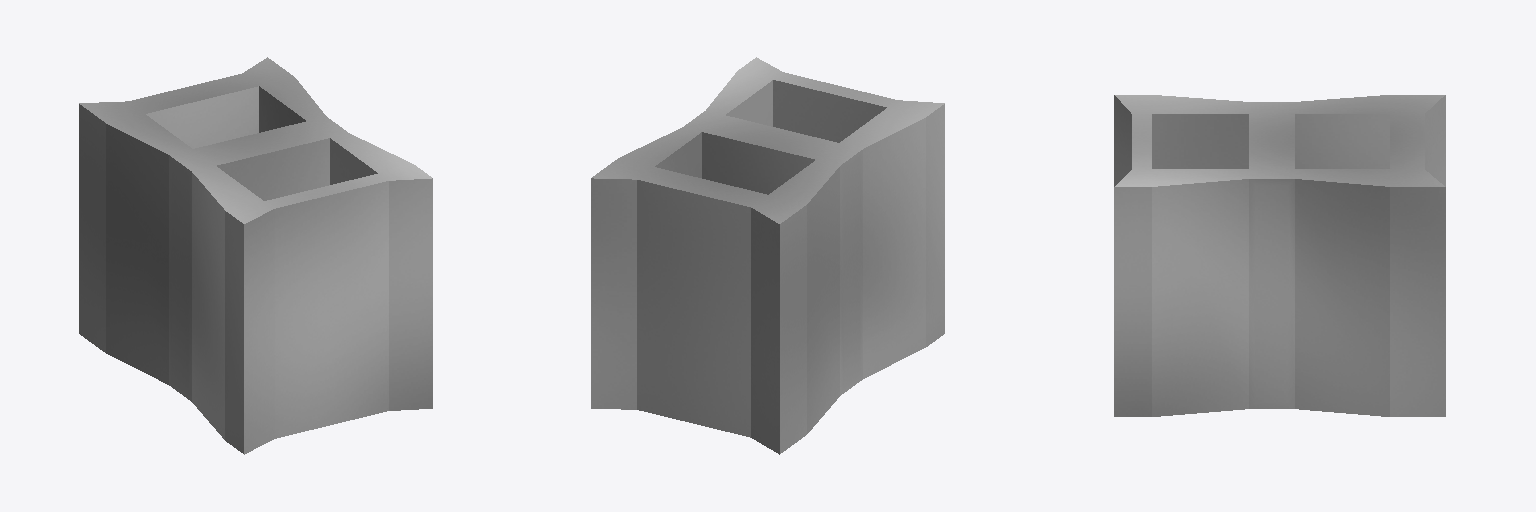
3 renders of one model, left to right at view 1: azimuth 30°, elevation 25°; view 2: azimuth 150°, elevation 25°; view 3: azimuth 270°, elevation 25°, orthographic.
Parts seen in each view (by area): view 1: brick; view 2: brick; view 3: brick.
Boxes of the visible parts, box(x1,y1,x2,y2) form: brick: box(79, 57, 432, 454); brick: box(591, 57, 944, 454); brick: box(1114, 95, 1445, 416).
Bounding box in the file's own units: 0.3504 × 0.408 × 0.5318.
Materials: 1 (1 with a texture image).